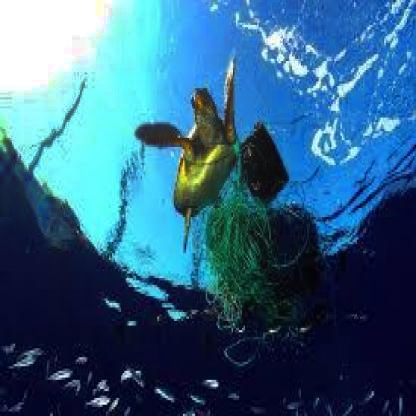net: (207, 176, 271, 337)
